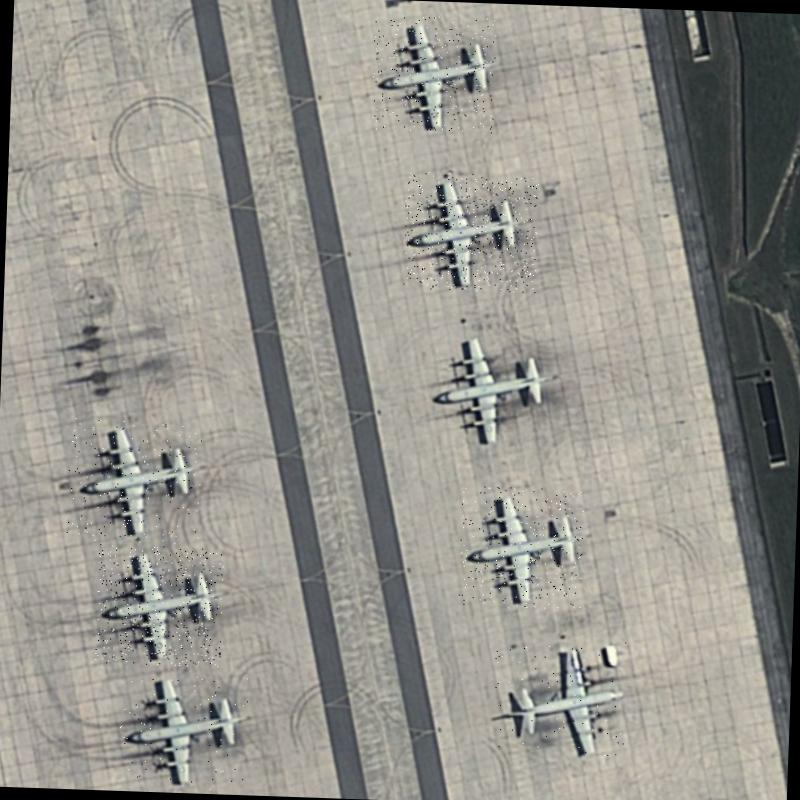A9: (66, 418, 202, 544), (426, 325, 558, 453), (401, 171, 539, 293), (492, 638, 631, 757), (115, 668, 250, 790), (94, 544, 224, 666), (458, 486, 584, 610), (370, 14, 497, 133)
